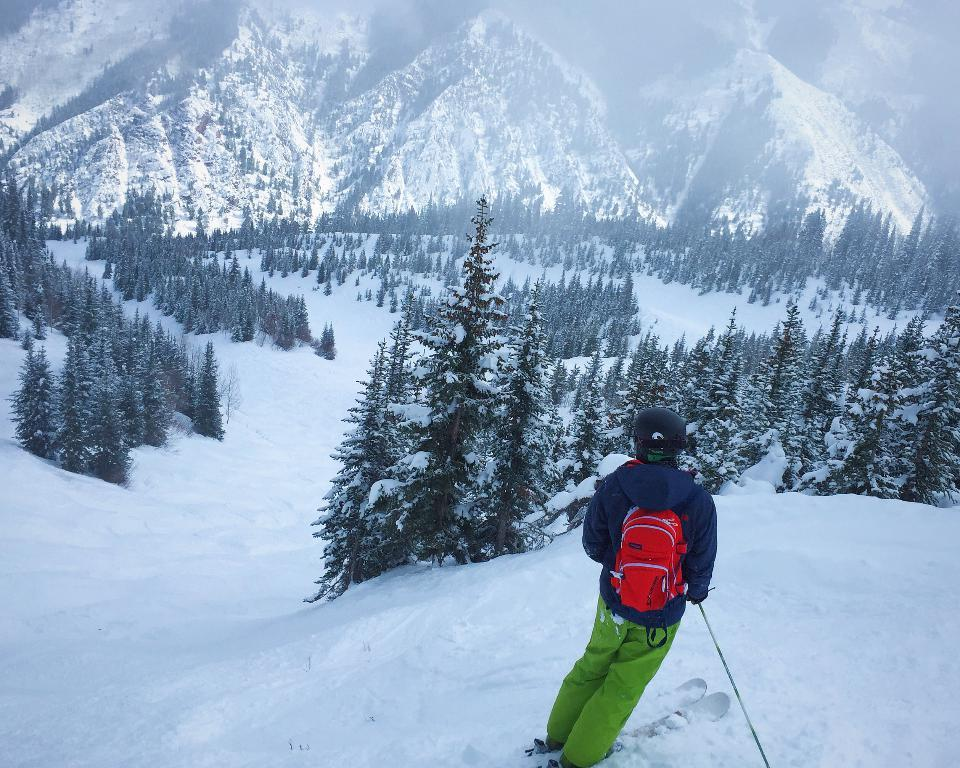Luggage-and-bags: (613, 457, 691, 611)
